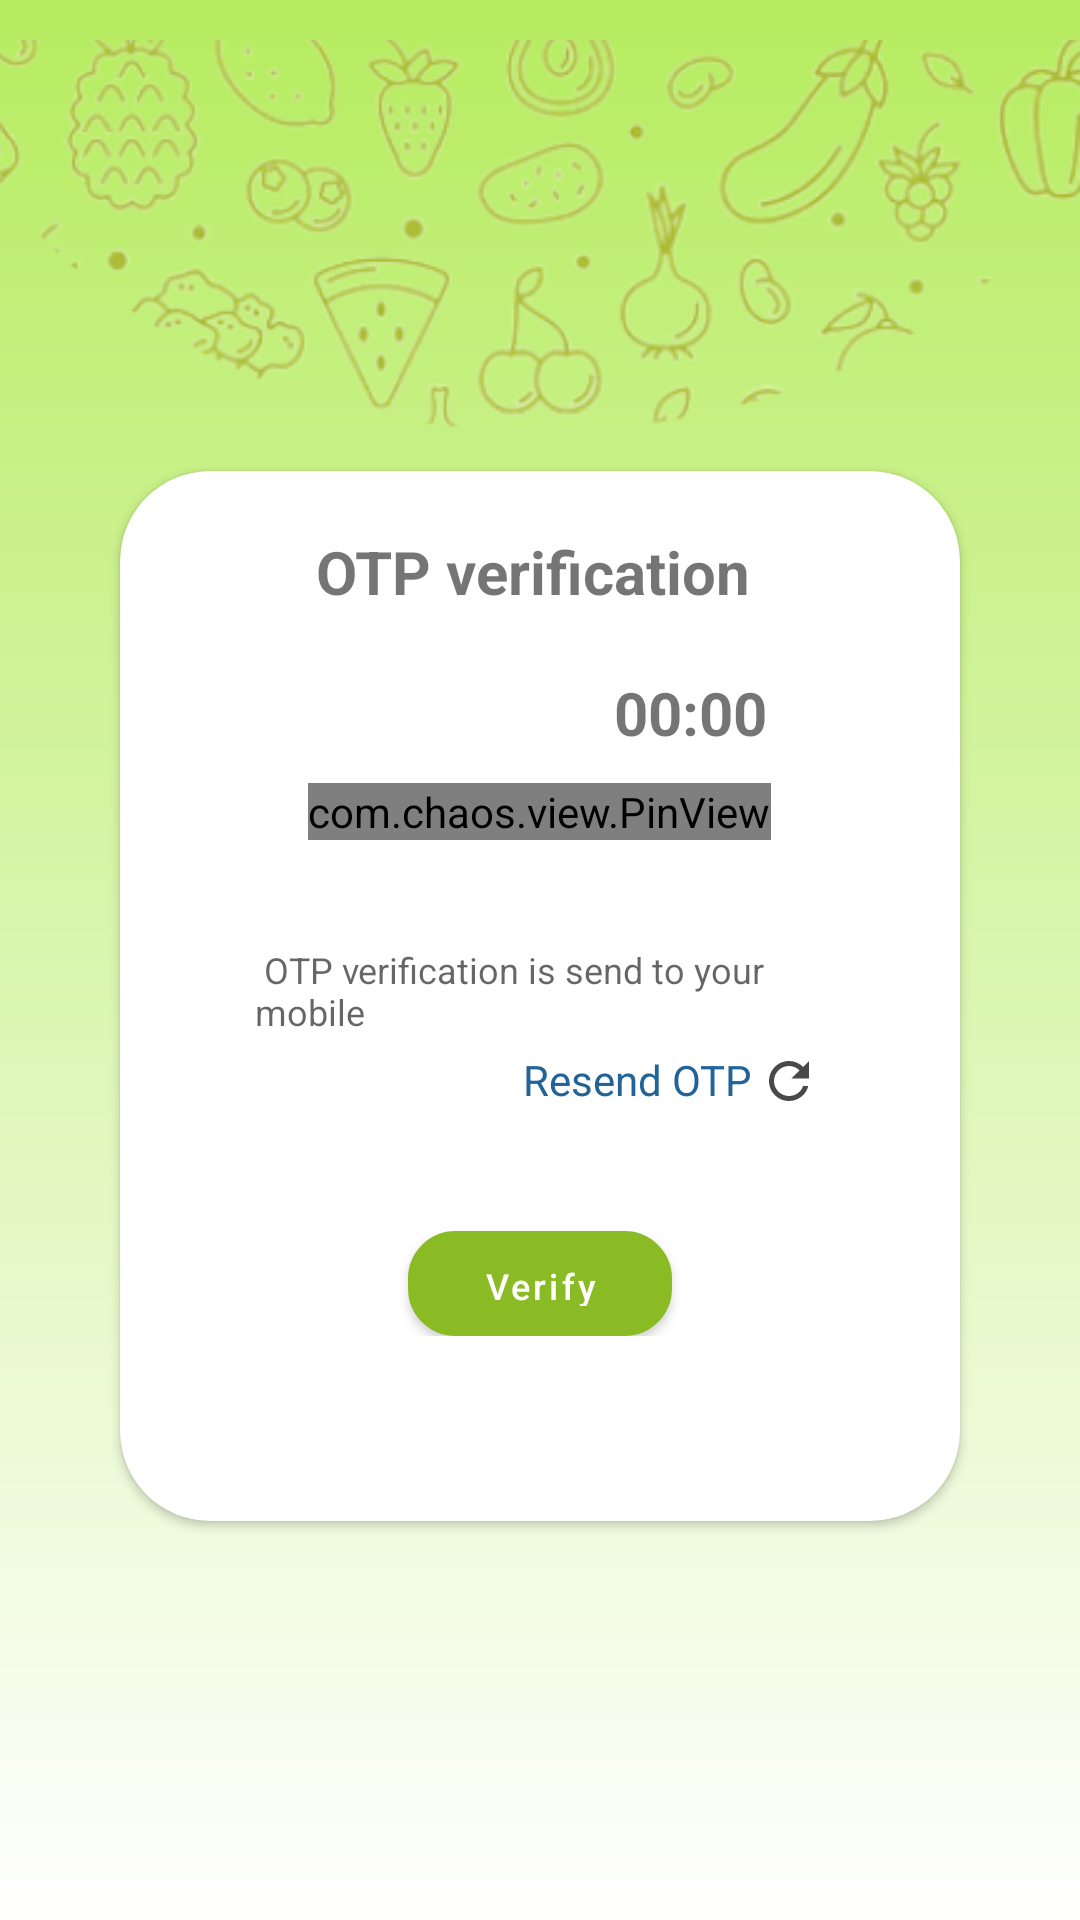

Where to tap for icons on this 1080×1920 app screen, as [x,y]:
refresh: [789,1081]
